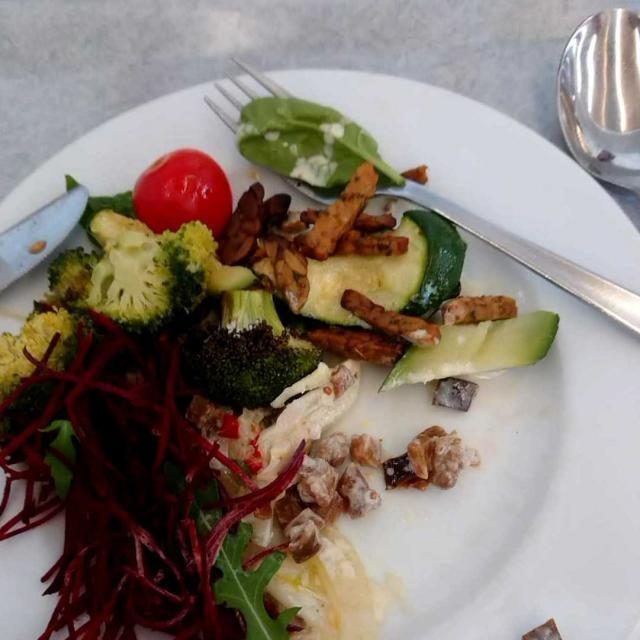broccoli: (7, 205, 319, 405)
carrot: (15, 320, 308, 629)
salad: (194, 92, 407, 629)
zucchini: (220, 198, 578, 387)
